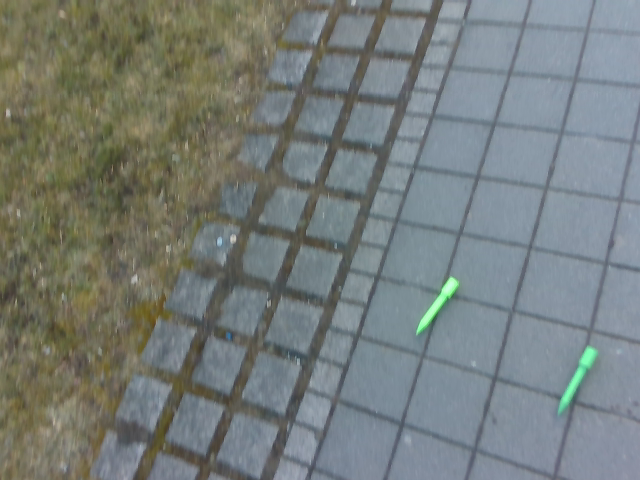Probe: (551, 343, 602, 422), (414, 271, 462, 340)
